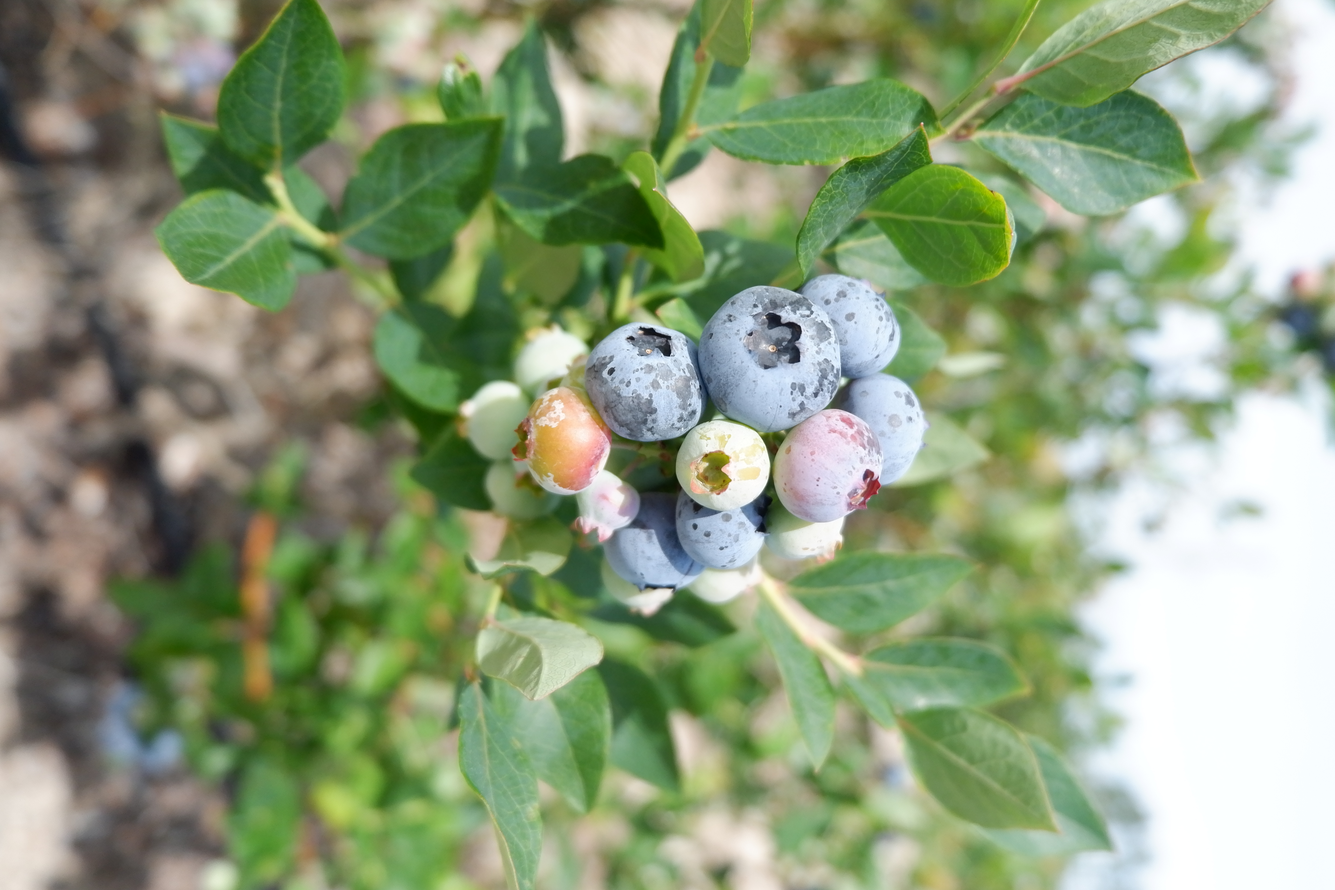Immature: (778, 413, 882, 519), (513, 391, 609, 491), (678, 422, 768, 508), (766, 494, 847, 563), (460, 383, 527, 458), (515, 331, 588, 395), (487, 458, 555, 519), (576, 474, 639, 535), (564, 354, 590, 398)
Mature: (701, 290, 840, 430), (587, 325, 705, 441), (834, 377, 924, 482), (804, 277, 896, 376), (607, 489, 699, 585), (676, 494, 767, 567)
